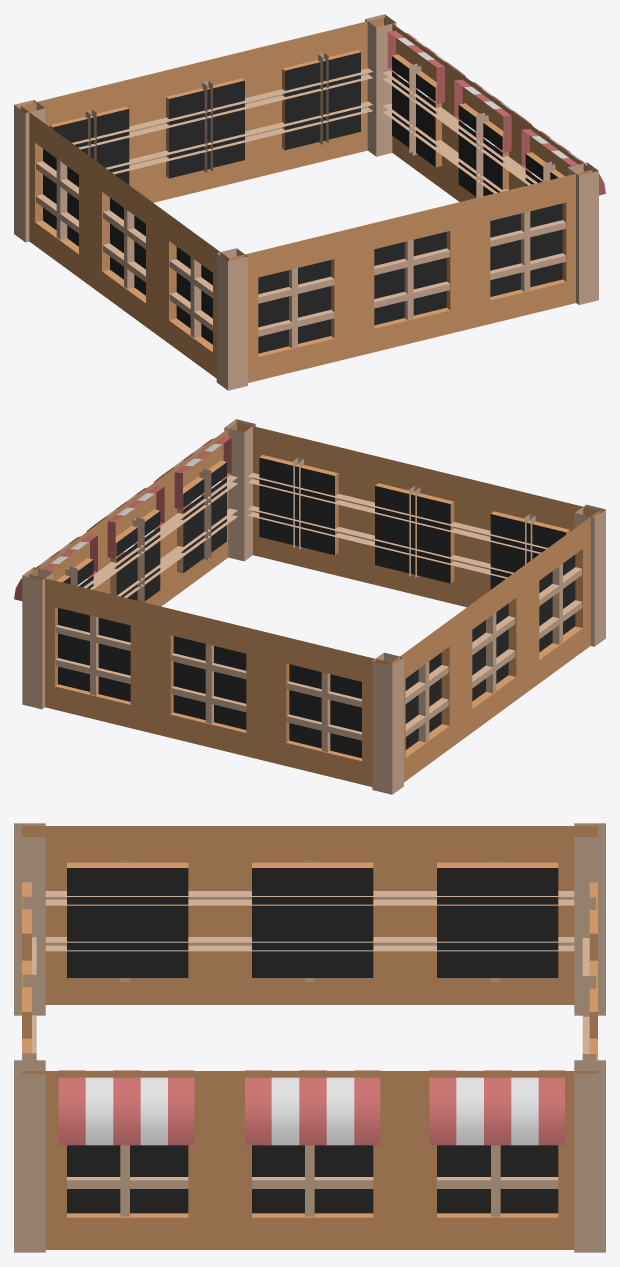
File: SkyScraper2_Middle_01.fbx
3 views of the same model, one above another, from view 1: azimuth 30°, elevation 25°; view 2: azimuth 150°, elevation 25°; view 3: azimuth 270°, elevation 25° (orthographic). The views are drawn at different scales.
Visible parts, largest first — view 1: SkyScraper2_Middle_01; view 2: SkyScraper2_Middle_01; view 3: SkyScraper2_Middle_01.
Part boxes in pixels (bbox=[...]): SkyScraper2_Middle_01: bbox=[14, 14, 605, 390]; SkyScraper2_Middle_01: bbox=[14, 419, 605, 794]; SkyScraper2_Middle_01: bbox=[14, 823, 605, 1252].
Bounding box in the file's own units: 102 × 32 × 96.
